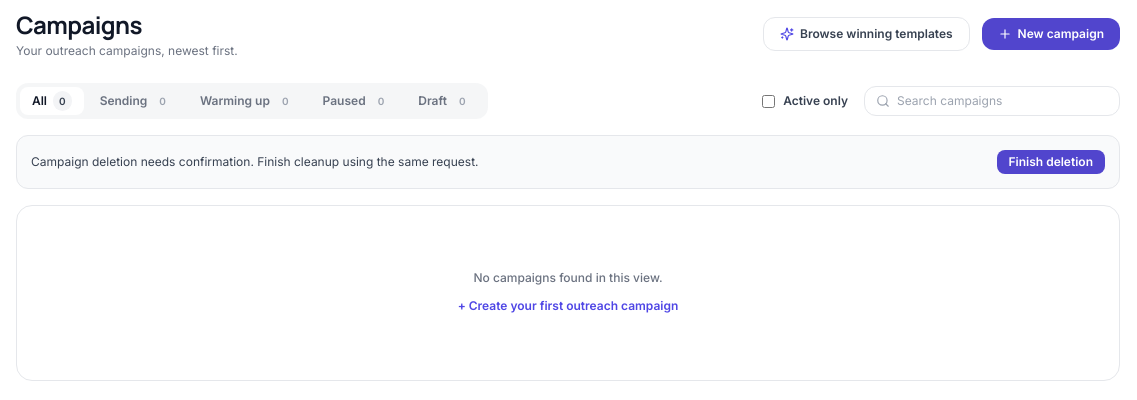
it: Campaign deletion recovery › recovers a lost deletion response after remount using the same workspace and request
Click the button "Finish deletion": (1051, 162) [996,150,1105,174]
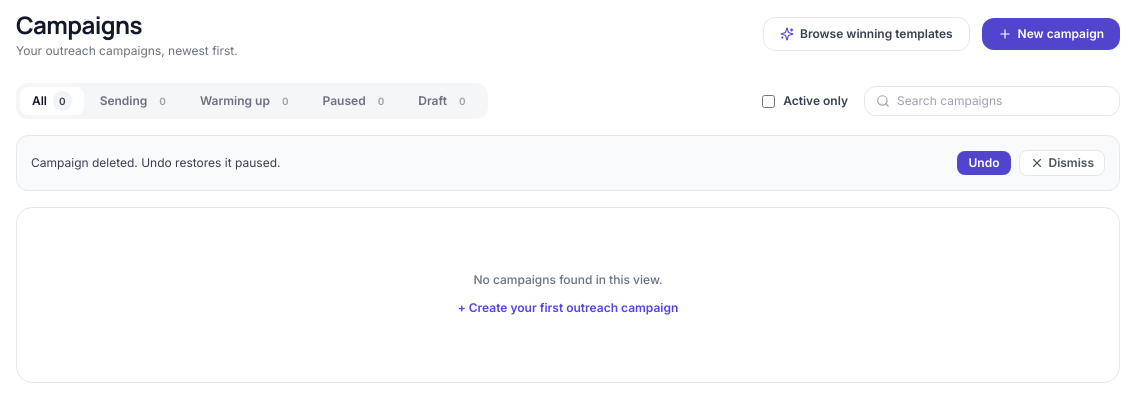
Expected: the text "Undo restores it paused" is shown, [31,155,280,170]
